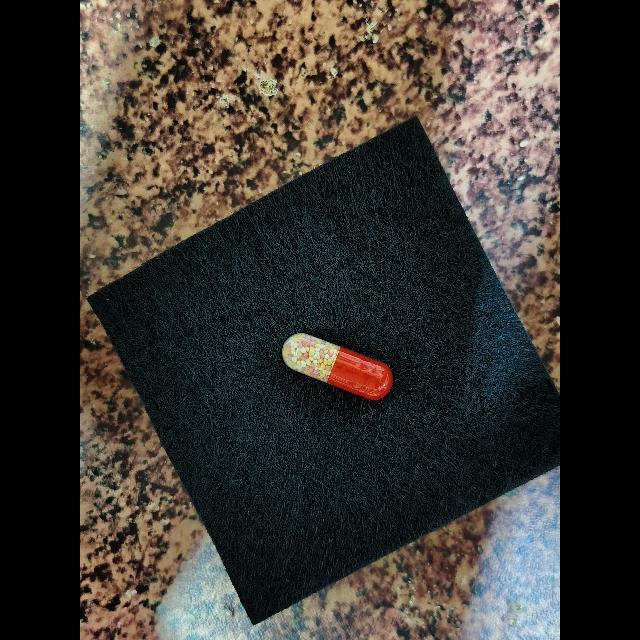Intact Capsule: (282, 333, 393, 400)
